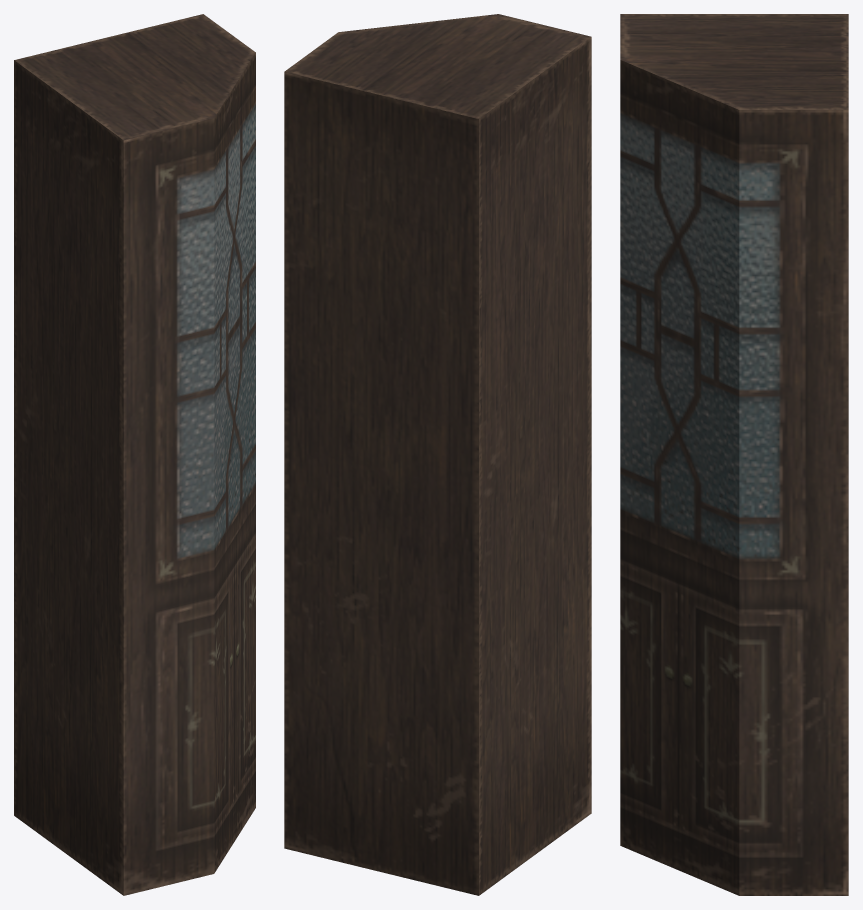
Rendered from Corner.Shelf.fbx.
3 views of the same model, side by side, from view 1: azimuth 30°, elevation 25°; view 2: azimuth 150°, elevation 25°; view 3: azimuth 270°, elevation 25° (orthographic). The views are drawn at different scales.
Visible parts, largest first — view 1: Corner.Shelf; view 2: Corner.Shelf; view 3: Corner.Shelf.
Boxes of the visible parts, <box> form: Corner.Shelf: <box>14,14,255,895</box>; Corner.Shelf: <box>284,14,591,895</box>; Corner.Shelf: <box>620,14,848,895</box>.
Bounding box in the file's own units: 49.79 × 190 × 49.95.
